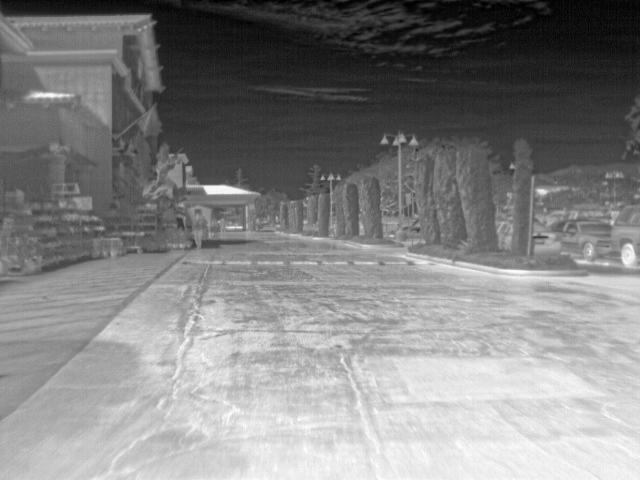car: (561, 218, 613, 255), (612, 200, 640, 264), (536, 220, 559, 252), (396, 221, 419, 241), (496, 220, 512, 248), (229, 220, 245, 232)
person: (189, 209, 208, 249), (215, 218, 228, 237)
